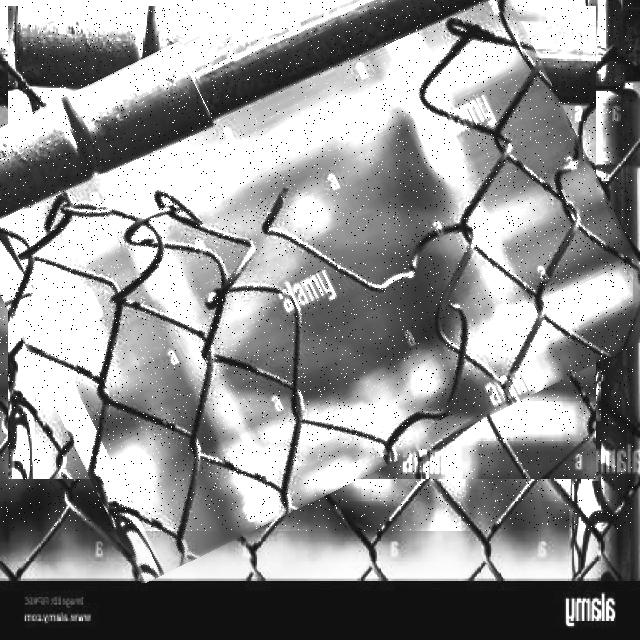anomaly-fence: (0, 0, 633, 531)
